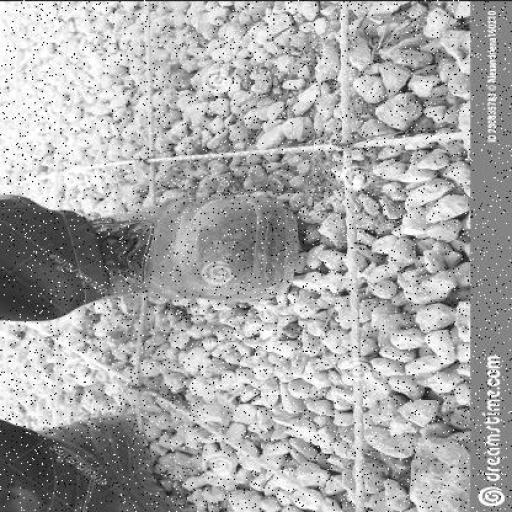safety_shoe: (103, 195, 304, 305), (53, 412, 185, 512)
